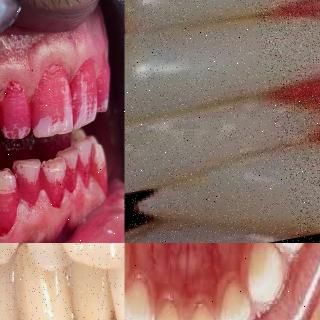maligned: (124, 91, 320, 179), (11, 155, 45, 214), (87, 142, 111, 198), (40, 152, 66, 202)
